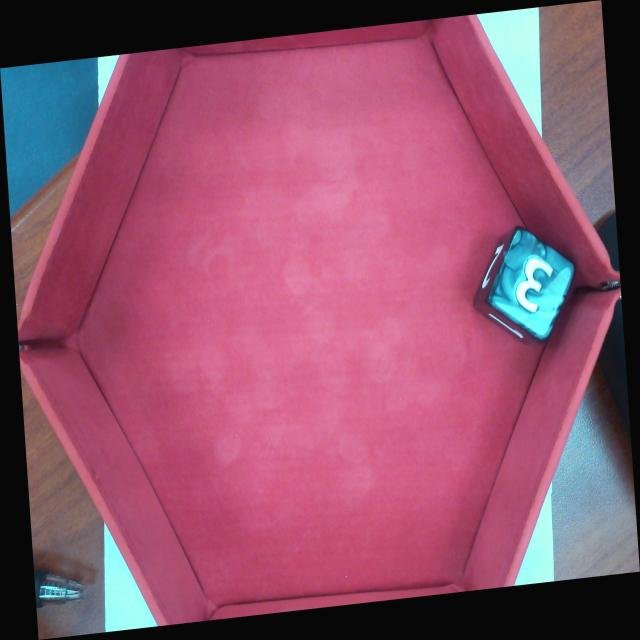dice: (483, 220, 580, 345)
